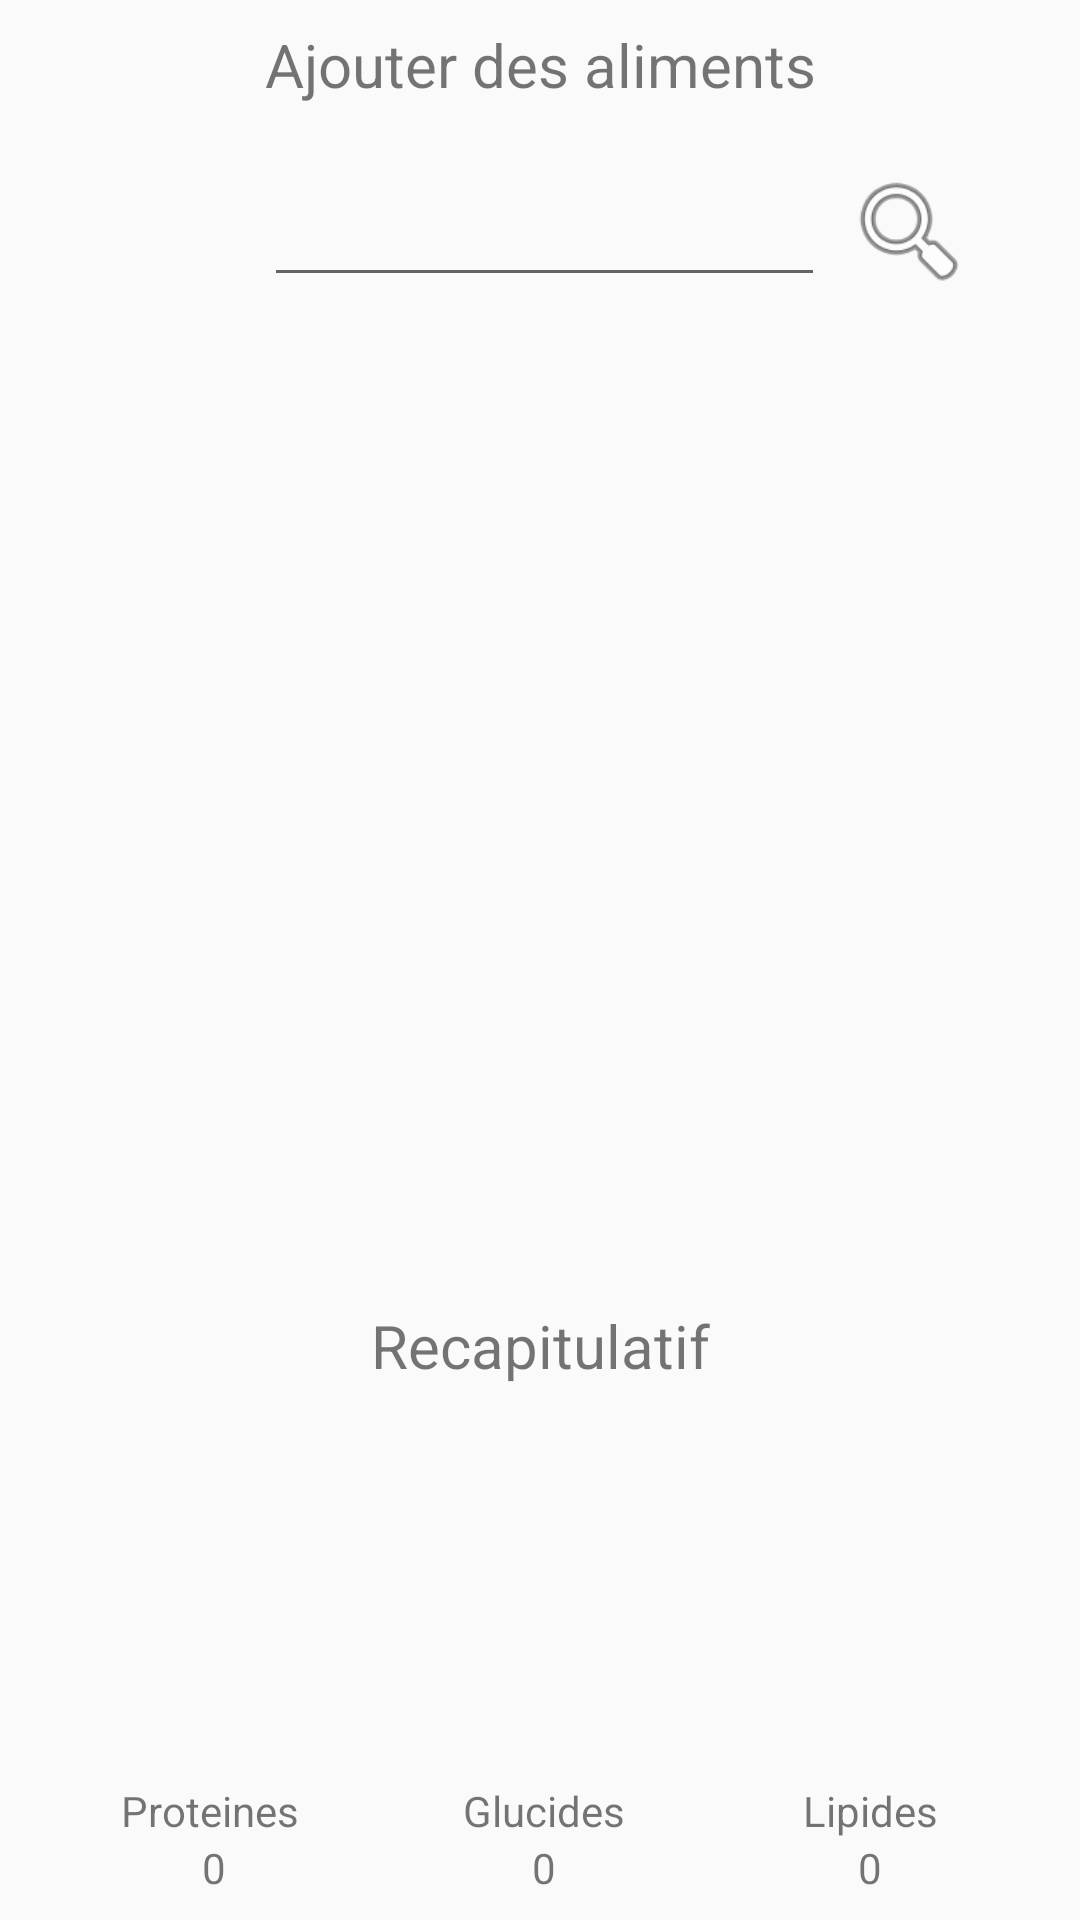

Icons on this 1080px x 1920px Android screen, each with the point to tap as (x=x, y=y):
search: (x=909, y=232)
